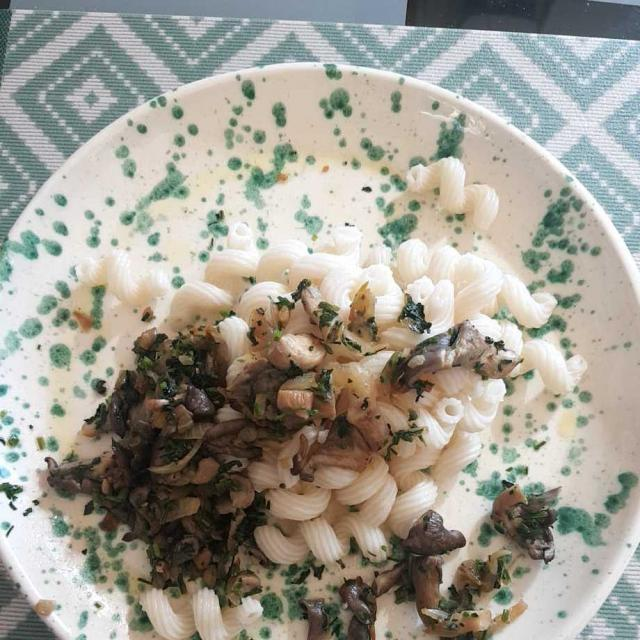pasta: (103, 182, 536, 585)
